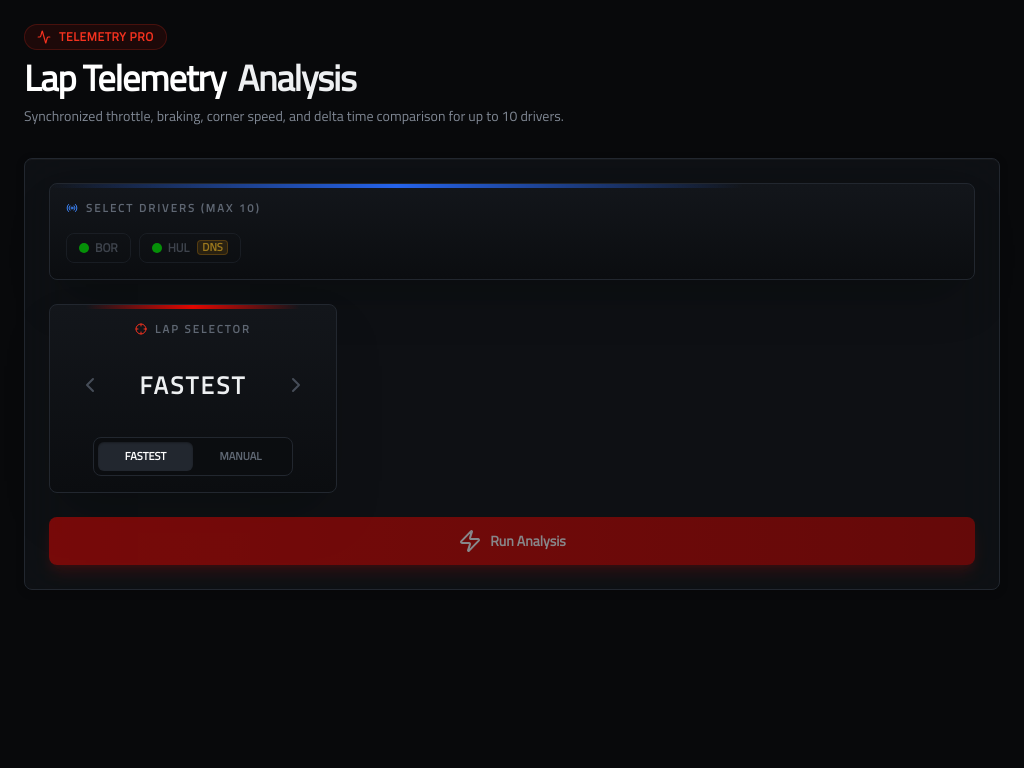
Test: TelemetryTab with partial backend payloads › flags DNS drivers in the picker and warns before running
Expected: the text titled "did not start" is shown, [197,240,228,255]
Click the button "HUL DNS" at (190,248), box [139,232,241,262]
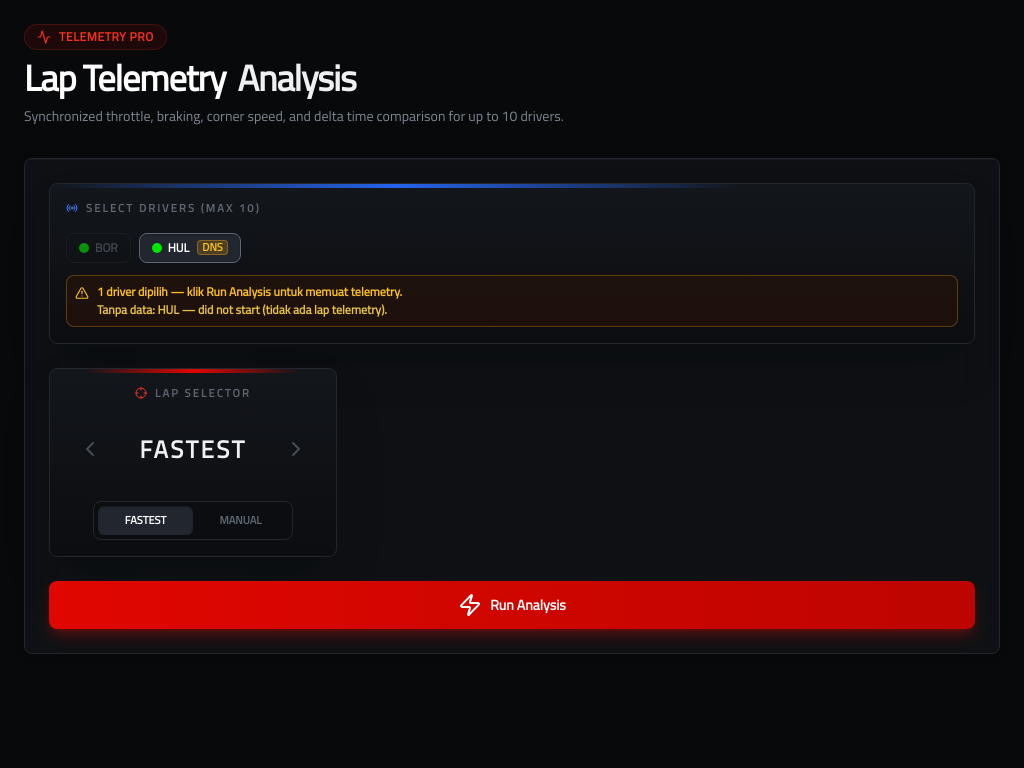
Now the text "Tanpa data: HUL — did not start (tidak ada lap telemetry)." is shown, box [97,302,402,318]
